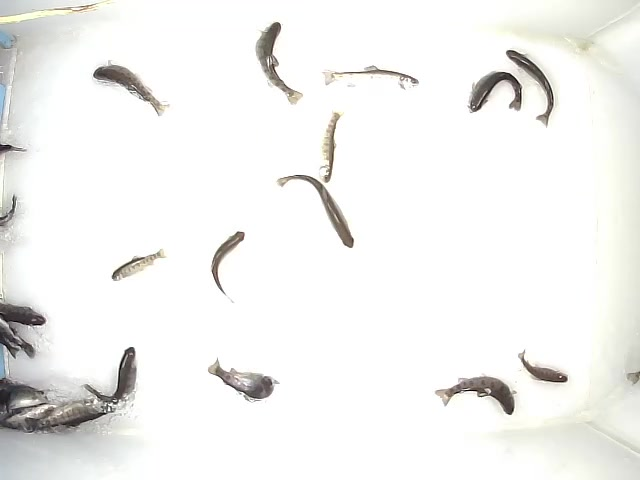fish: (274, 171, 358, 251), (247, 22, 310, 107), (91, 61, 171, 117), (504, 49, 555, 131), (83, 346, 139, 409), (22, 397, 117, 432), (207, 358, 278, 403), (433, 376, 514, 414), (321, 64, 422, 92), (464, 70, 522, 114), (208, 230, 242, 303), (515, 347, 569, 384), (109, 248, 167, 281), (317, 111, 343, 183)
